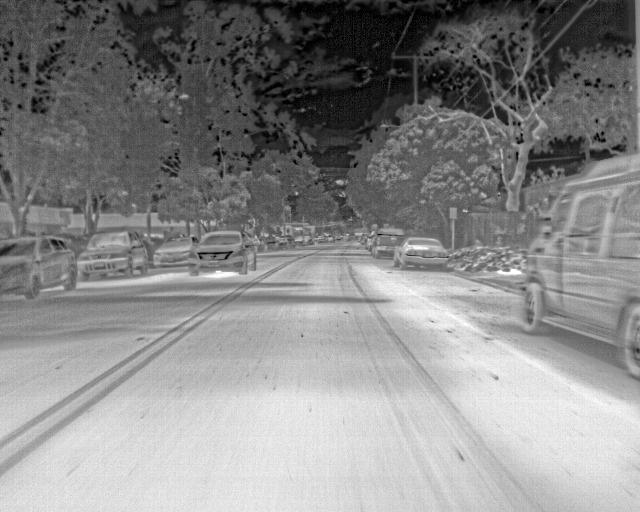car: (522, 156, 639, 385), (0, 232, 80, 301), (78, 229, 150, 279), (197, 228, 257, 276), (150, 234, 200, 277), (395, 235, 449, 271), (367, 225, 400, 258), (268, 236, 282, 252), (280, 234, 293, 251), (257, 235, 269, 253), (357, 232, 371, 246), (293, 234, 305, 250), (302, 234, 314, 249), (315, 234, 326, 244), (325, 233, 335, 243)
